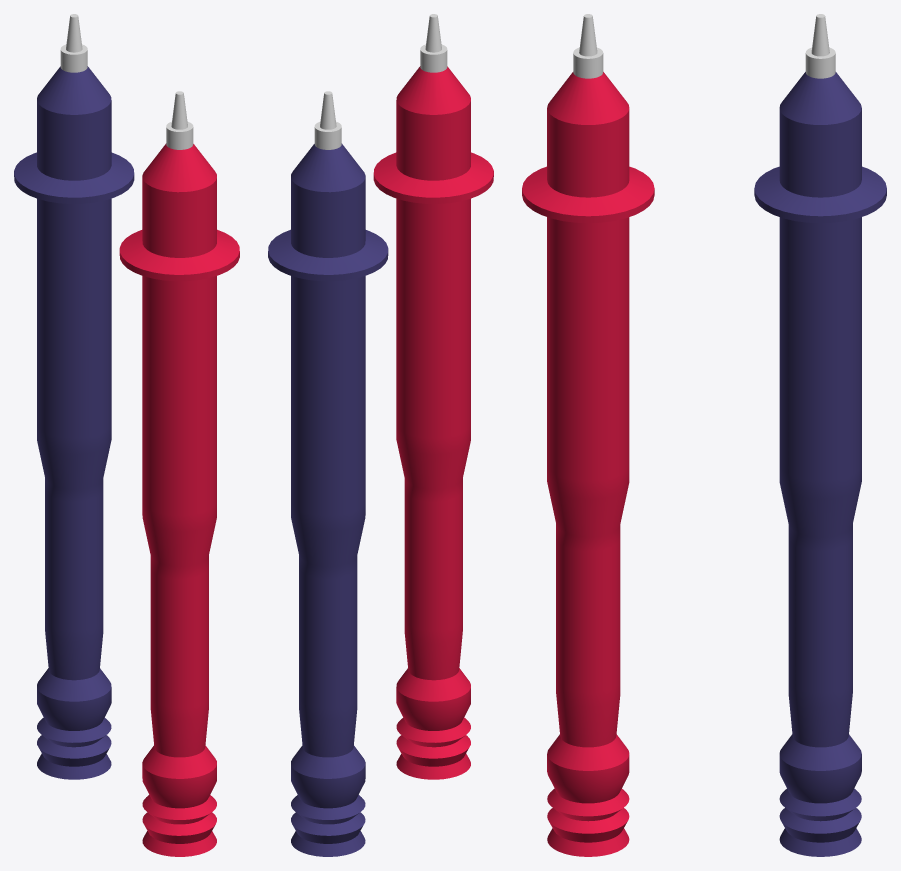
The model's file is _ticks.fbx.
3 renders of one model, left to right at view 1: azimuth 30°, elevation 25°; view 2: azimuth 150°, elevation 25°; view 3: azimuth 270°, elevation 25°, orthographic. The views are drawn at different scales.
Parts seen in each view (by area): view 1: Cylinder.057, Cylinder.054, Cylinder.062, Cylinder.063; view 2: Cylinder.054, Cylinder.057, Cylinder.063, Cylinder.062; view 3: Cylinder.057, Cylinder.054, Cylinder.063, Cylinder.062.
Part boxes in pixels (x1,y1,x2,y2): Cylinder.057: (14, 66, 134, 779); Cylinder.054: (119, 143, 239, 856); Cylinder.062: (60, 14, 87, 72); Cylinder.063: (166, 91, 193, 149); Cylinder.054: (373, 66, 493, 779); Cylinder.057: (268, 143, 388, 856); Cylinder.063: (420, 14, 447, 72); Cylinder.062: (314, 91, 341, 149); Cylinder.057: (754, 72, 886, 856); Cylinder.054: (522, 72, 654, 856); Cylinder.063: (573, 14, 603, 78); Cylinder.062: (805, 14, 835, 78).
Bounding box in the file's own units: 2.09 × 14.36 × 5.77.
